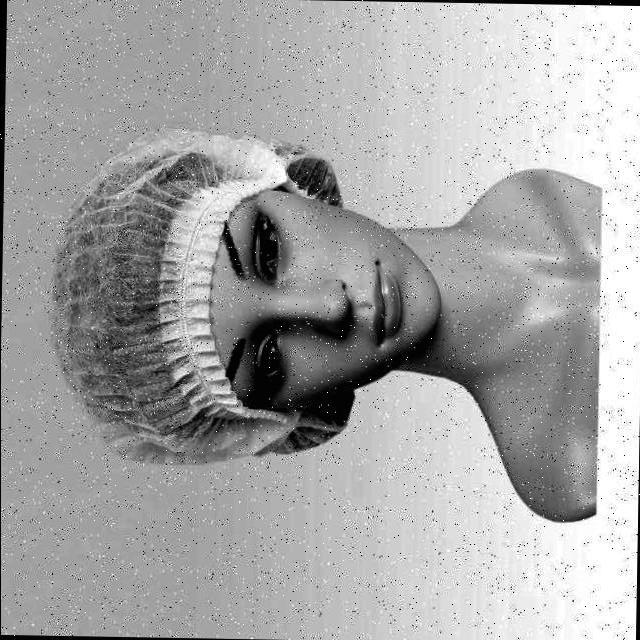no_hairnet: (302, 230, 422, 358)
